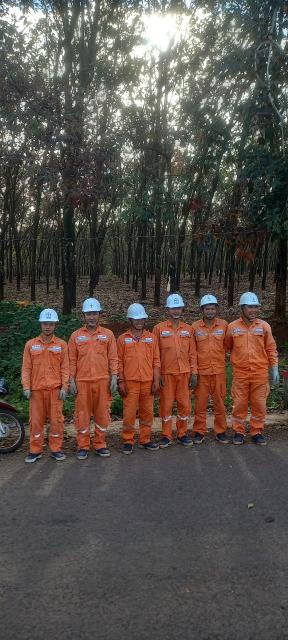helmet: (36, 303, 62, 327), (122, 301, 150, 323), (76, 295, 104, 315), (233, 290, 263, 307), (192, 293, 221, 309), (161, 291, 184, 311)
shoes: (92, 438, 113, 457), (117, 435, 136, 456), (245, 430, 268, 447), (72, 444, 93, 462), (135, 436, 158, 452), (48, 446, 68, 464), (21, 448, 46, 461), (172, 432, 193, 445), (190, 428, 206, 445), (155, 433, 171, 449), (214, 432, 228, 448), (231, 432, 243, 448)
